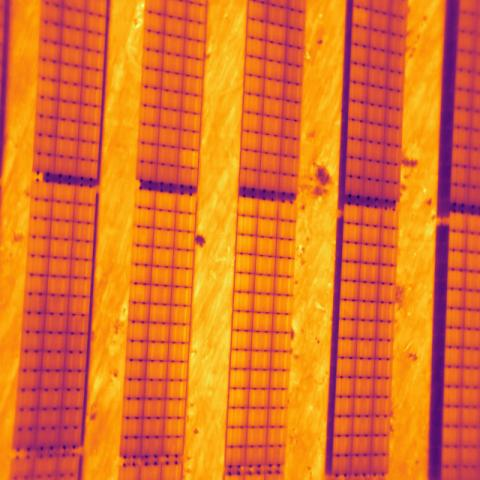fault: (179, 148, 200, 168)
